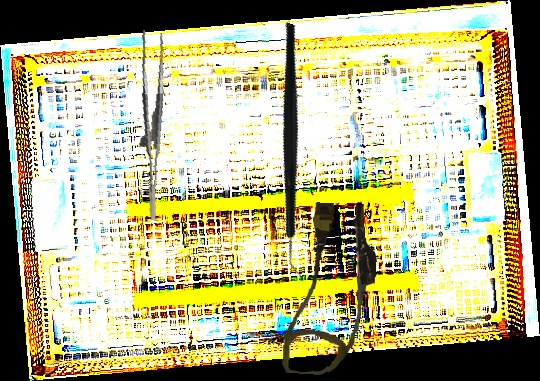Cannula: (281, 200, 381, 379)
Chopper: (203, 21, 388, 282)
Tissue Forceps: (117, 30, 182, 221)
